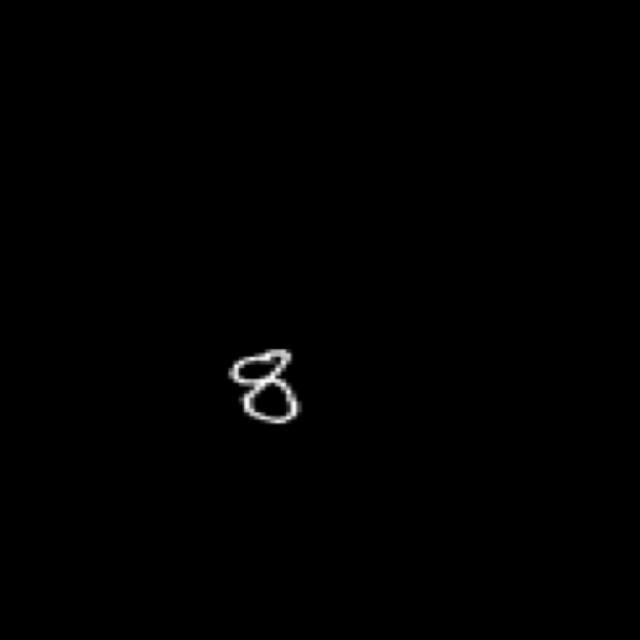eight -8-: (222, 342, 318, 428)
